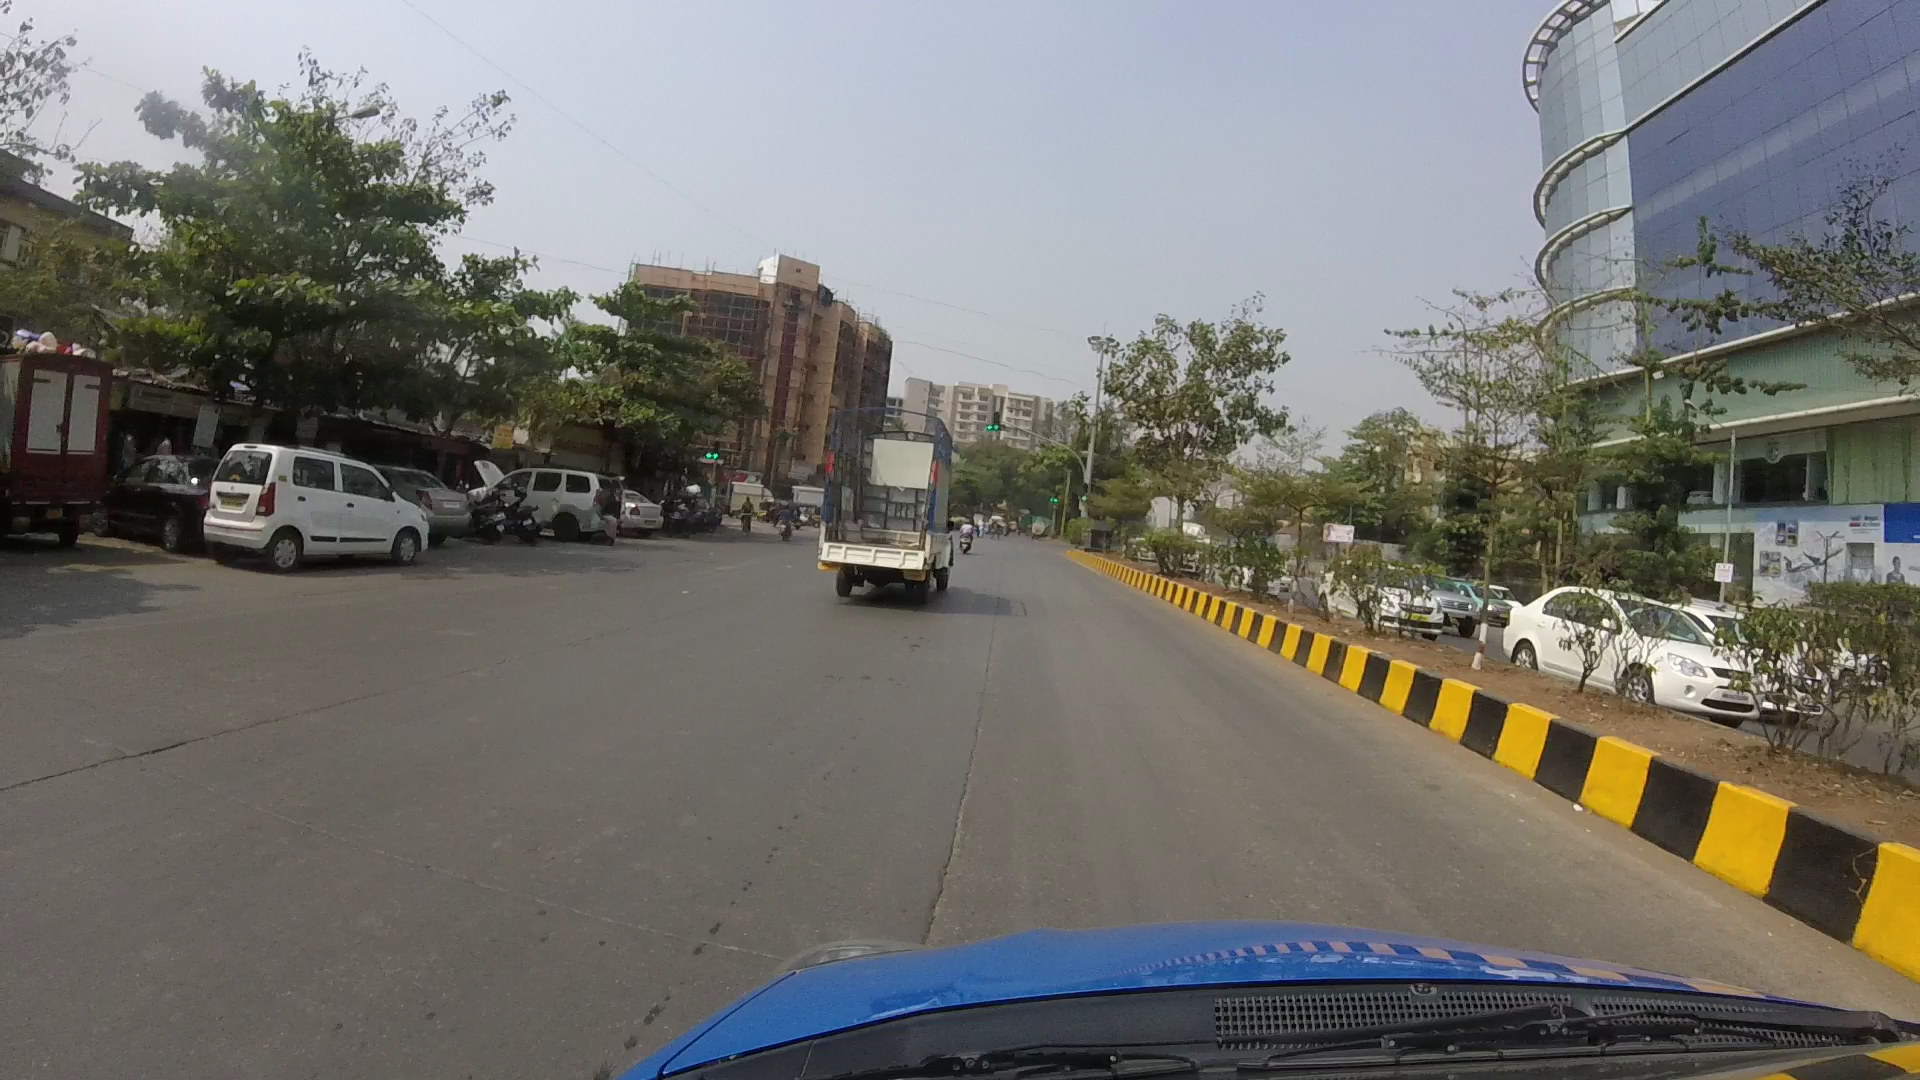car: (204, 433, 427, 567), (105, 434, 214, 545), (380, 454, 472, 538)
truck: (804, 398, 957, 587), (4, 342, 132, 547)
